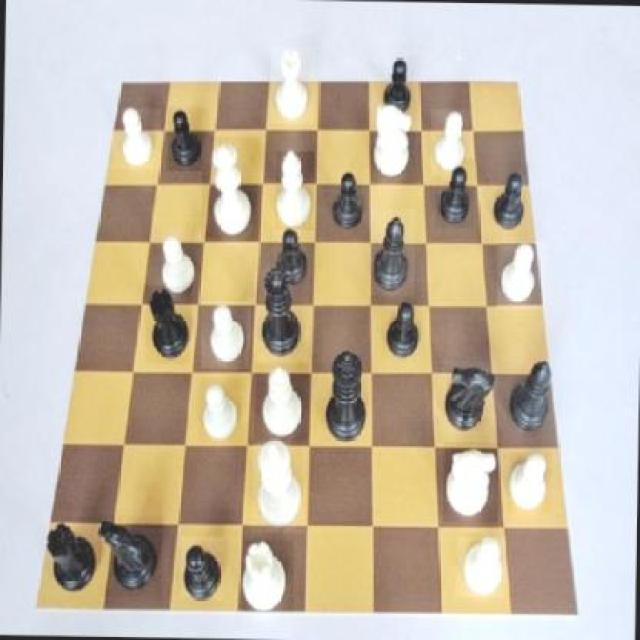bishop: (368, 209, 414, 297), (508, 355, 558, 433)
black-bishop: (317, 343, 371, 442)
black-king: (99, 514, 164, 598), (440, 360, 497, 435)
black-knight: (436, 157, 476, 228), (178, 537, 222, 600), (382, 297, 428, 357), (166, 108, 209, 172), (272, 228, 312, 294), (328, 169, 368, 234), (494, 163, 528, 237), (380, 56, 420, 114)
black-pawn: (252, 269, 308, 362)
black-queen: (43, 511, 102, 597), (144, 284, 192, 364)
black-rook: (254, 364, 309, 442), (276, 151, 314, 231)
white-bishop: (251, 443, 306, 533)
white-king: (443, 442, 499, 522), (372, 101, 416, 186)
white-knight: (200, 300, 250, 369), (156, 229, 204, 300), (497, 242, 547, 310), (198, 377, 248, 444), (456, 537, 506, 598), (431, 110, 475, 178), (112, 108, 160, 170), (508, 451, 552, 513)
white-pawn: (202, 137, 260, 240)
white-queen: (241, 538, 294, 614), (271, 46, 315, 124)
